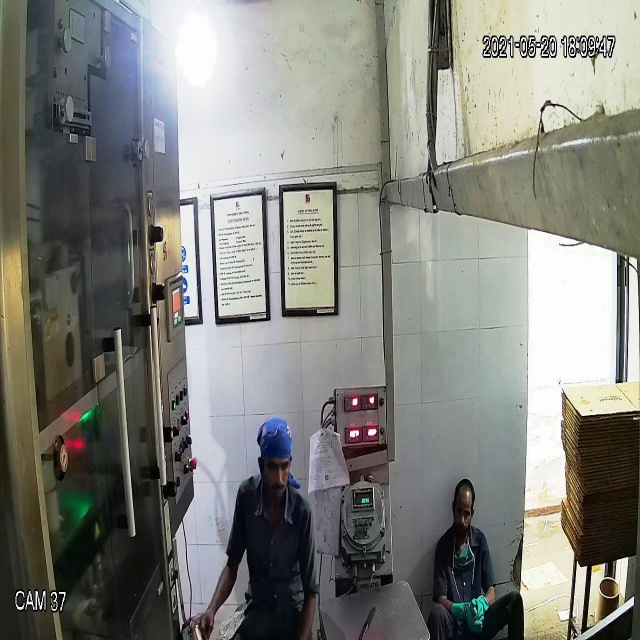Sin_gafas: (260, 452, 292, 479), (452, 495, 475, 524)
